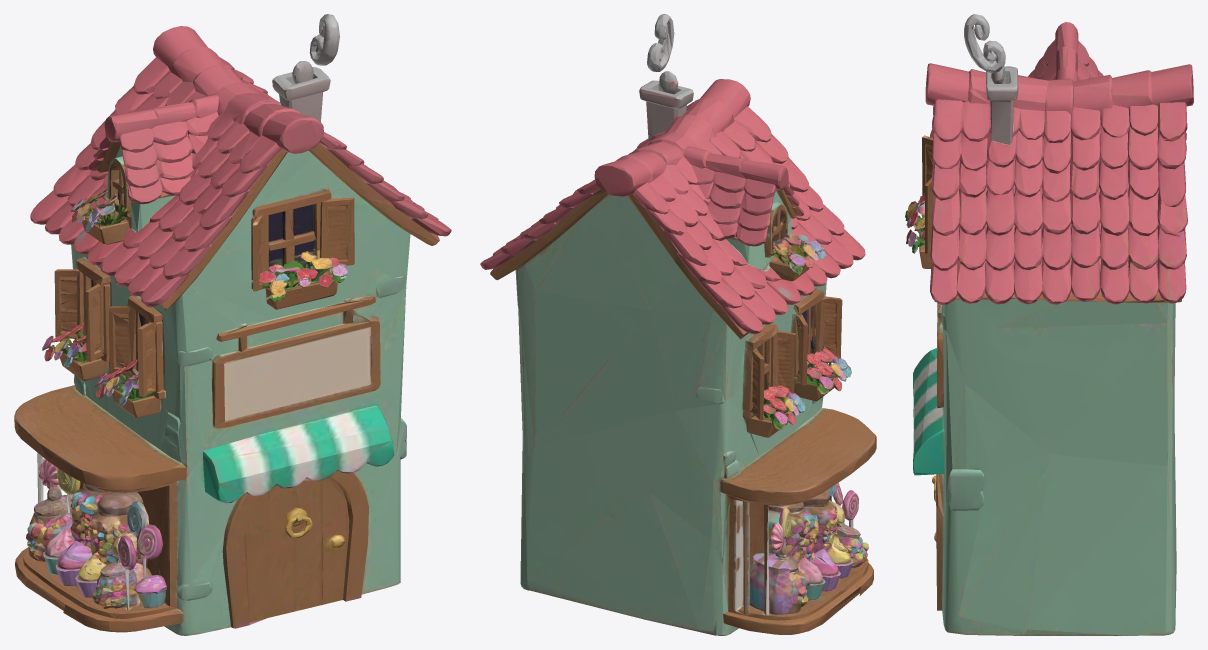
The model's file is shop_sweets.glb.
The picture shows the model from 3 angles, left to right: view 1: azimuth 30°, elevation 25°; view 2: azimuth 150°, elevation 25°; view 3: azimuth 270°, elevation 25°; orthographic projection. The views are drawn at different scales.
Size of the model in its own units: 7 by 11 by 4.88.
1 material, 1 textured.
